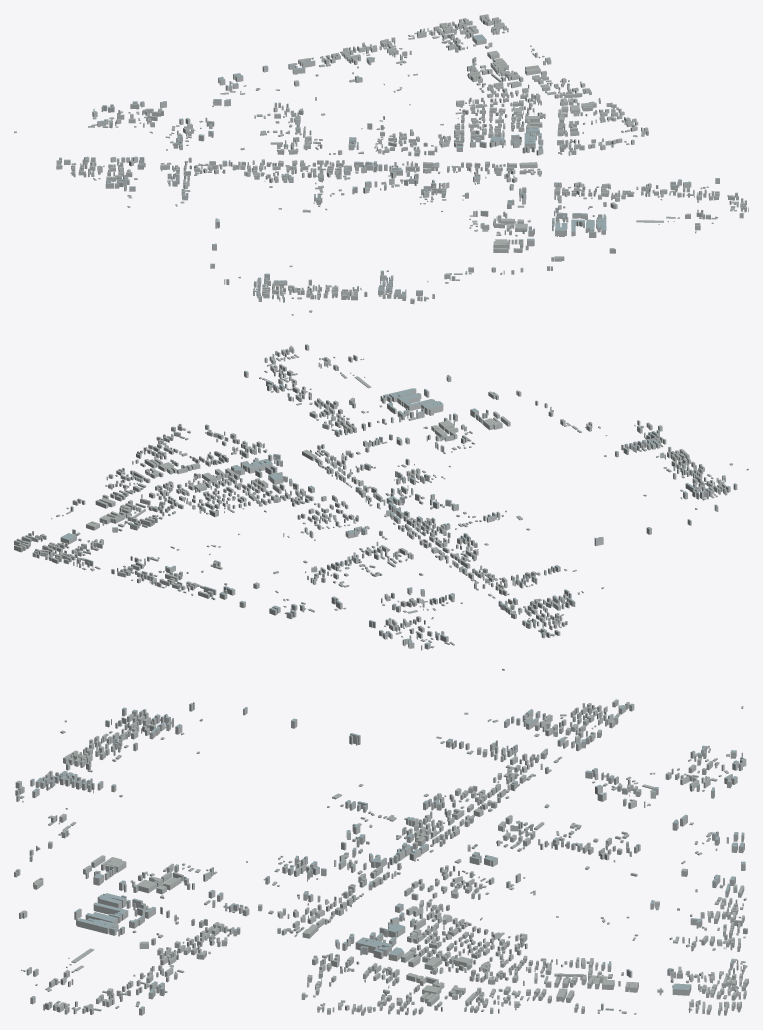
The picture shows the model from 3 angles, top to bottom: view 1: azimuth 30°, elevation 25°; view 2: azimuth 150°, elevation 25°; view 3: azimuth 270°, elevation 25°; orthographic projection. The views are drawn at different scales.
Parts seen in each view (by area): view 1: 上海全域建筑分块 · mapped building neighborhood; view 2: 上海全域建筑分块 · mapped building neighborhood; view 3: 上海全域建筑分块 · mapped building neighborhood.
Boxes of the visible parts, x1,y1,x2,y2 form: 上海全域建筑分块 · mapped building neighborhood: [14, 14, 748, 315]; 上海全域建筑分块 · mapped building neighborhood: [14, 344, 748, 670]; 上海全域建筑分块 · mapped building neighborhood: [14, 699, 748, 1015].
Size of the model in its own units: 2102 by 27.71 by 2094.
